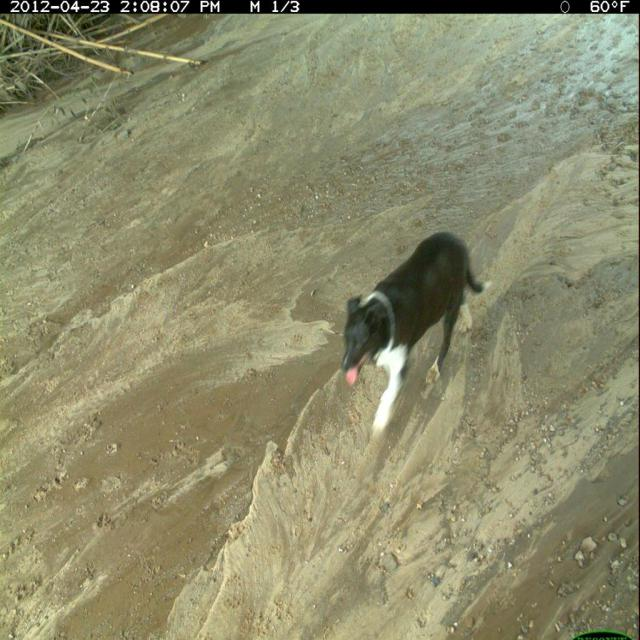dog: (342, 230, 485, 442)
